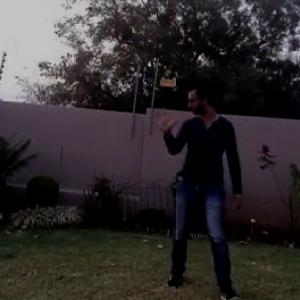follow_hand: (150, 103, 180, 136)
